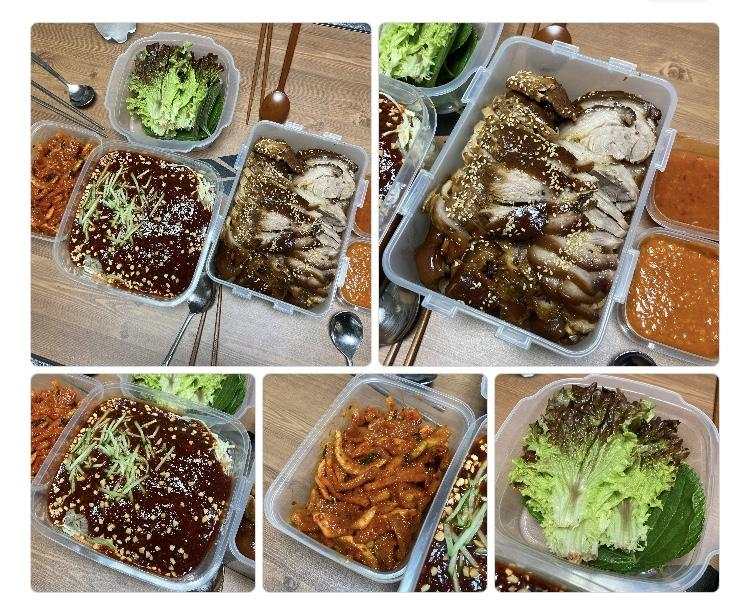Lunch Box: (381, 36, 676, 356), (496, 377, 718, 591), (31, 381, 251, 590), (264, 375, 475, 581), (206, 121, 368, 316), (53, 142, 220, 305), (104, 32, 239, 151), (618, 230, 718, 363), (378, 23, 503, 112), (378, 75, 435, 242), (30, 121, 102, 240), (647, 135, 718, 240)
